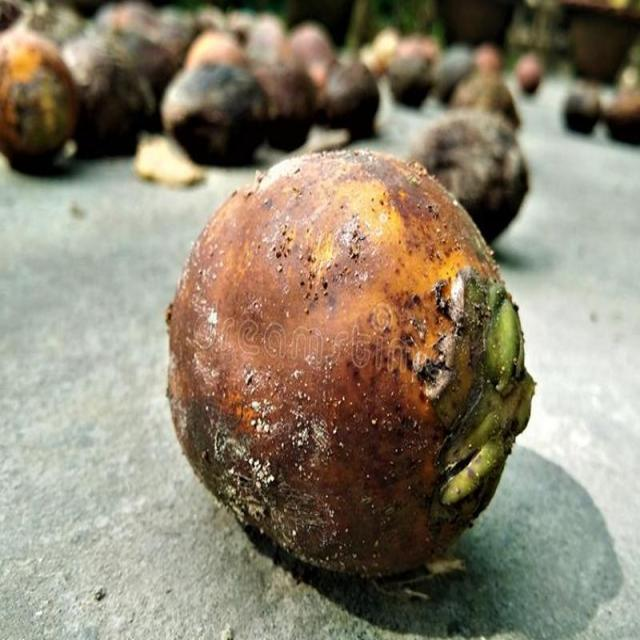damaged: (167, 153, 534, 576)
